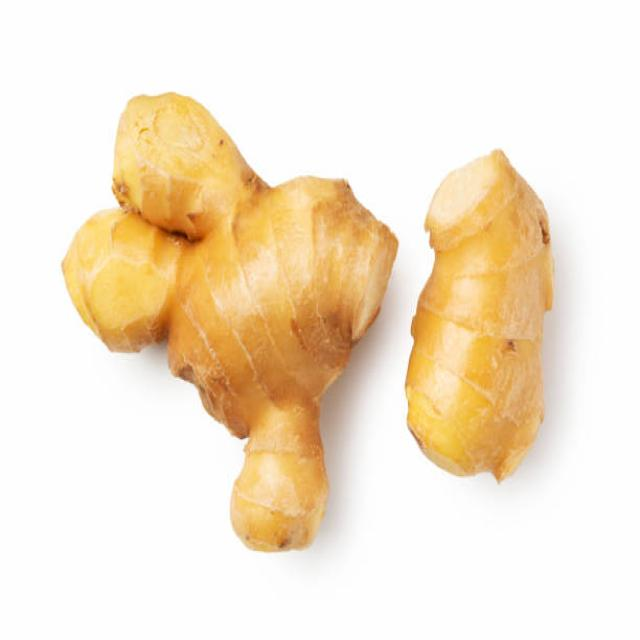ginger-root: (54, 67, 406, 562)
